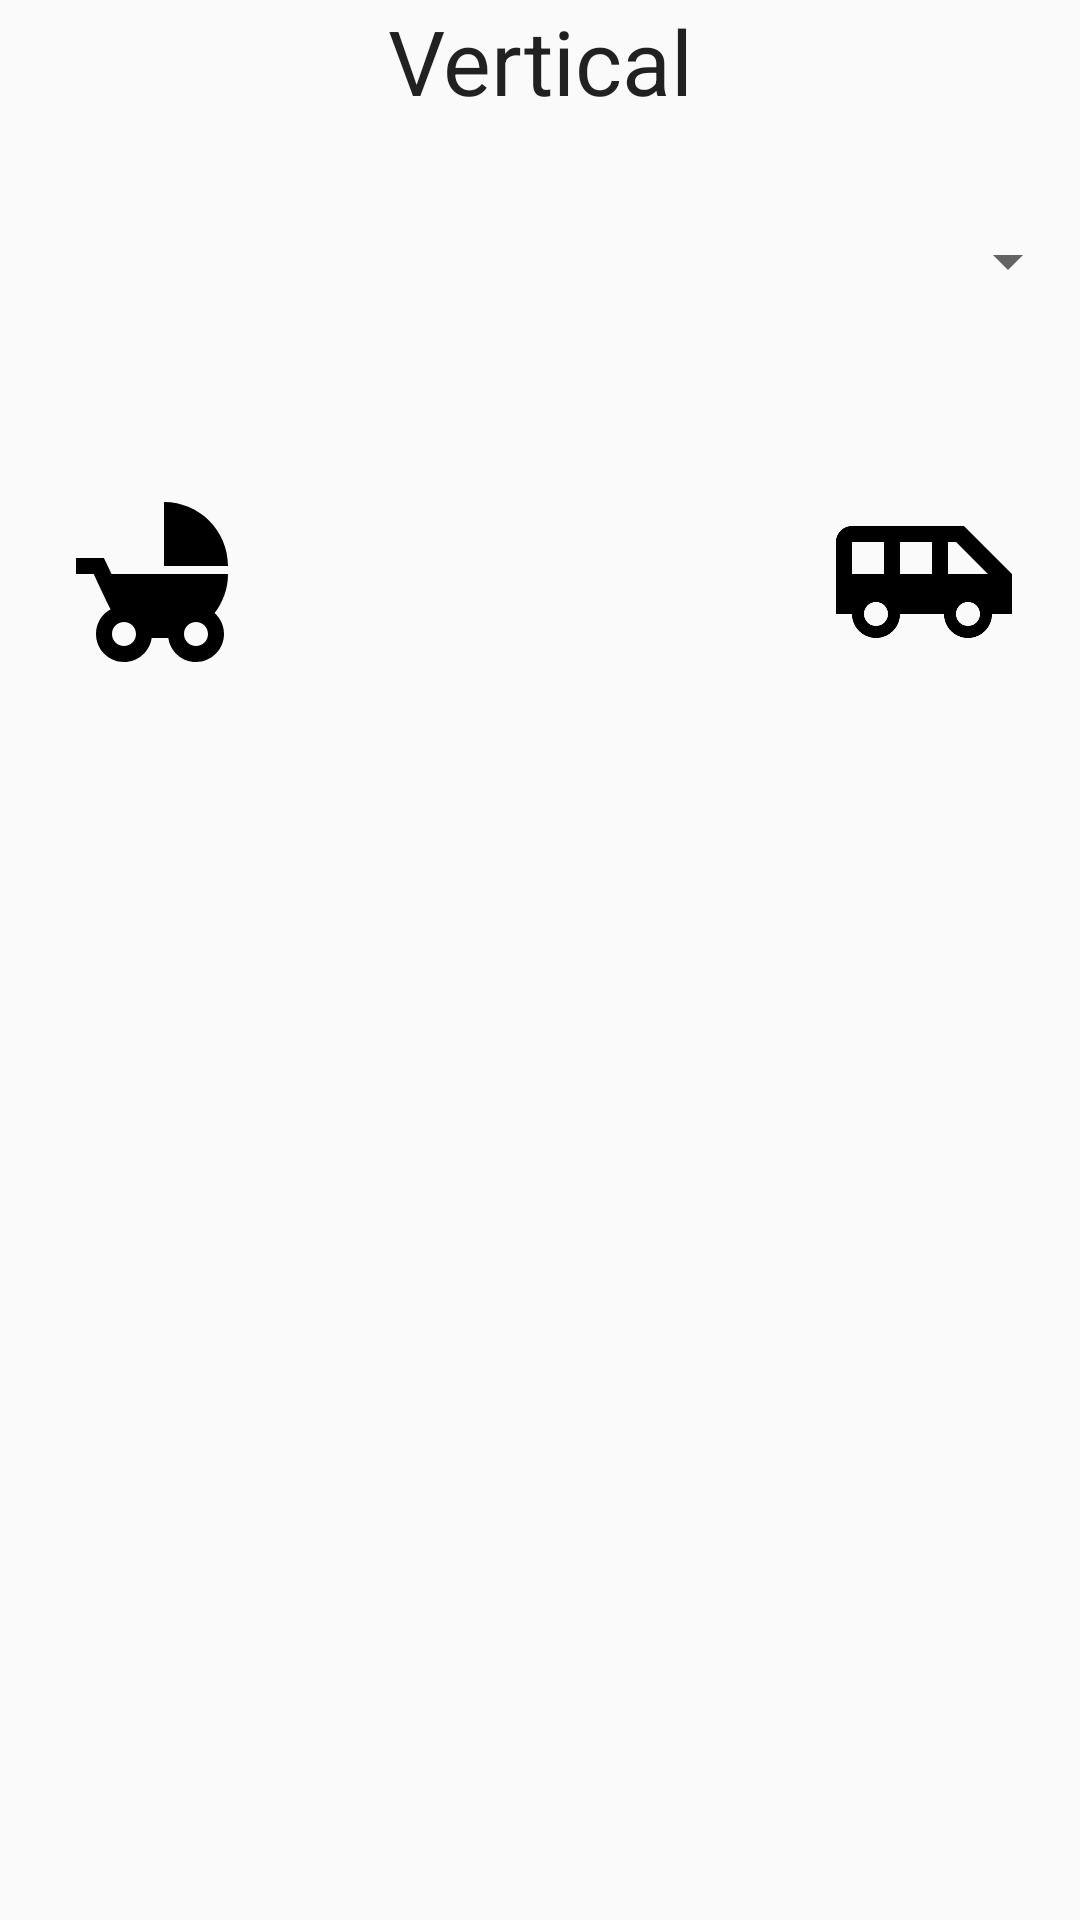

Where to tap for icons on this 1080×1920 app screen, as [x,y]:
bus: [924,582]
child friendly: [152,582]
